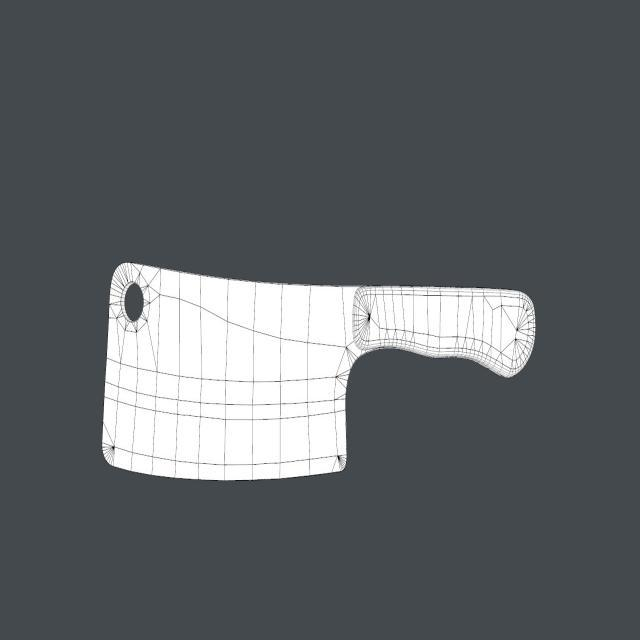cleaver: (100, 263, 541, 479)
